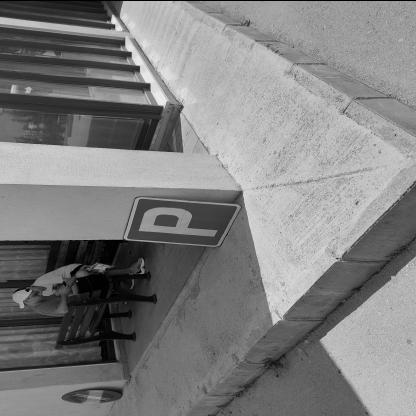Parking-Sign: (125, 197, 243, 248)
